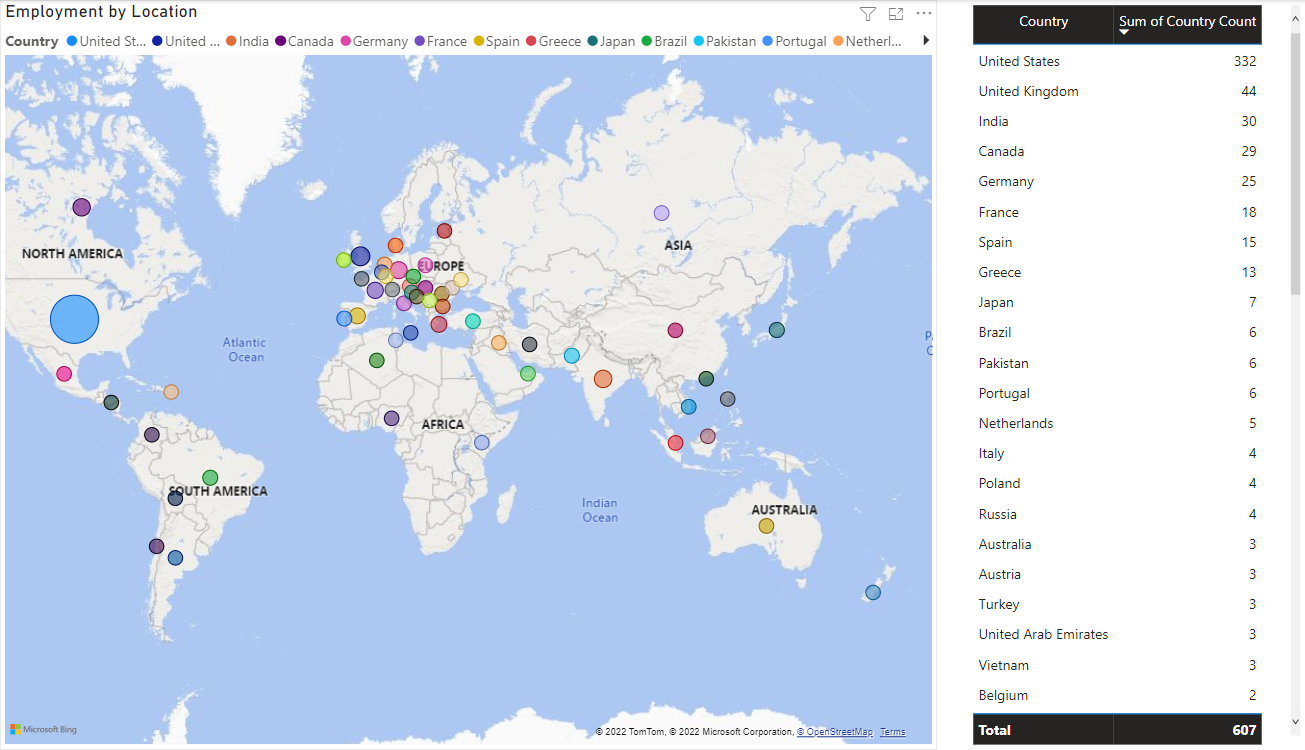

The dashboard page shown, as its layout file describes it:
{"tool":"powerbi","page":{"name":"Page 3","canvas":[1280,720],"ordinal":2},"visuals":[{"type":"map","title":"Employment by Location","fields":{"Category":["CountryCount.Country"],"Series":["CountryCount.Country"],"Size":["Sum(CountryCount.CountryCount)"]},"box":[9.7,0,899.7,719.8],"z":0},{"type":"tableEx","fields":{"Values":["CountryCount.Country","Sum(CountryCount.CountryCount)"]},"box":[938.2,0,324.6,720.2],"z":1000}]}

Visuals, with their boxes in screenshot pixels (x1, y1, x2, y2), scaled from the page's 1280x720 canvas onto the 1305x750 screenshot:
"Employment by Location" map: 10/0/927/749
tableEx - CountryCount.Country x Sum(CountryCount.CountryCount): 957/0/1287/749
